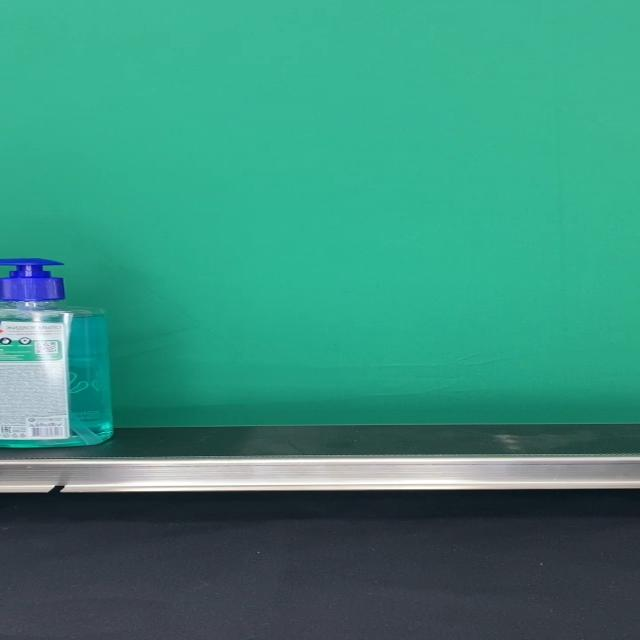Bottle: (0, 257, 113, 447)
Cap: (0, 258, 65, 301)
